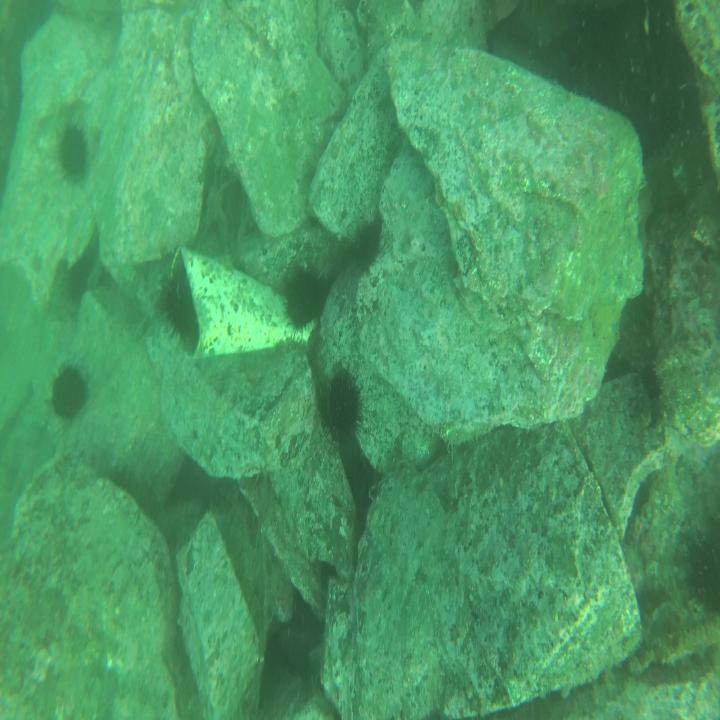echinus: (280, 261, 334, 332), (322, 356, 364, 447), (162, 269, 208, 347), (687, 515, 720, 619), (45, 359, 90, 426), (55, 122, 94, 192)
